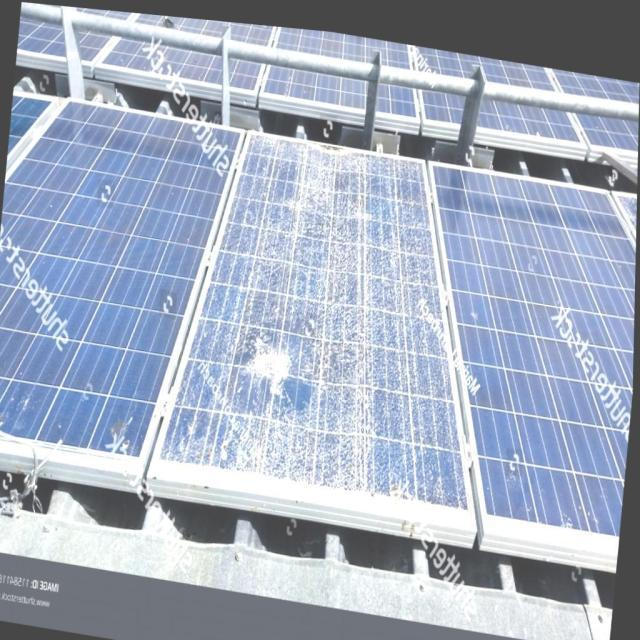cracked: (167, 122, 475, 533)
